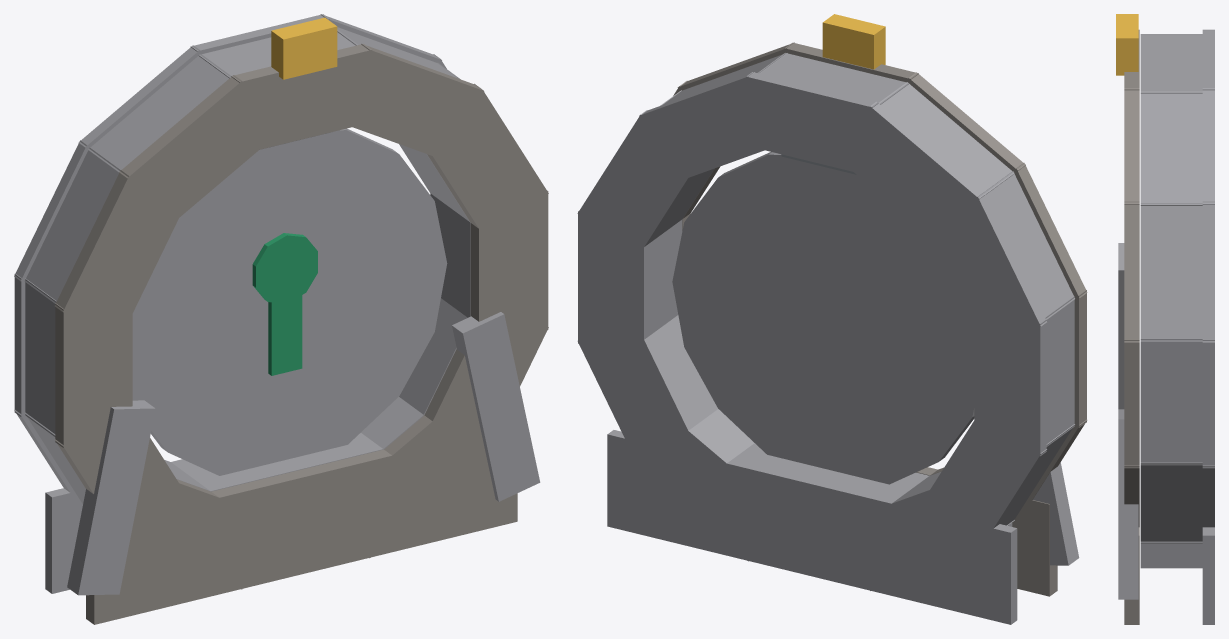
File: CatCafe_CatFlap_Keyhole.glb
The picture shows the model from 3 angles, left to right: view 1: azimuth 30°, elevation 25°; view 2: azimuth 150°, elevation 25°; view 3: azimuth 270°, elevation 25°; orthographic projection. The views are drawn at different scales.
Parts seen in each view (by area): view 1: CatCafe_CatFlap_Keyhole, CatCafe_CatFlap_Keyhole_Flap; view 2: CatCafe_CatFlap_Keyhole, CatCafe_CatFlap_Keyhole_Flap; view 3: CatCafe_CatFlap_Keyhole.
Part boxes in pixels (bbox=[...]): CatCafe_CatFlap_Keyhole: bbox=[14, 14, 548, 624]; CatCafe_CatFlap_Keyhole_Flap: bbox=[132, 128, 447, 475]; CatCafe_CatFlap_Keyhole: bbox=[577, 14, 1087, 624]; CatCafe_CatFlap_Keyhole_Flap: bbox=[672, 152, 974, 484]; CatCafe_CatFlap_Keyhole: bbox=[1116, 14, 1214, 624].
Size of the model in its own units: 2.53 by 2.7 by 0.48.
1 material, 1 textured.
